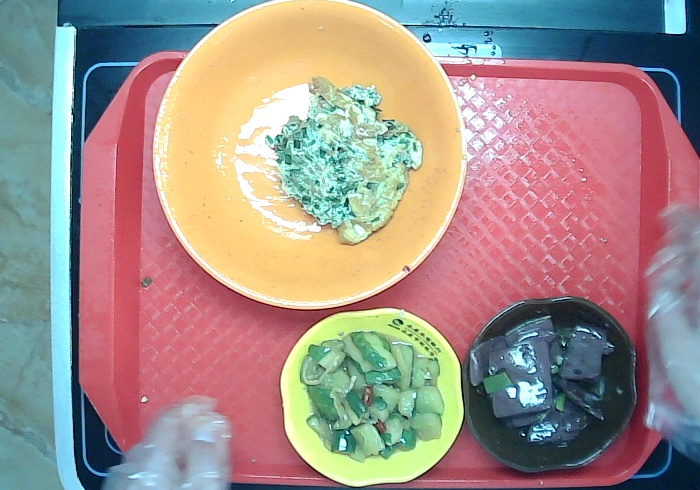YKMZ-Huang_Se_Ao_Bian_Wan: (276, 304, 467, 487)
YKMZ-Ju_Se_Tang_Wan: (149, 1, 471, 310)
YKMZ-Ka_Fei_Ao_Bian_Wan: (459, 292, 639, 476)
